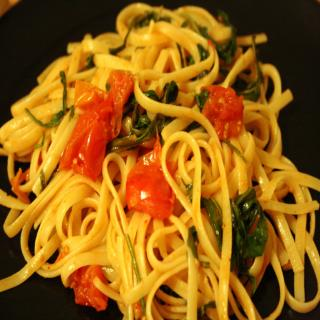Pasta: (1, 2, 310, 320)
